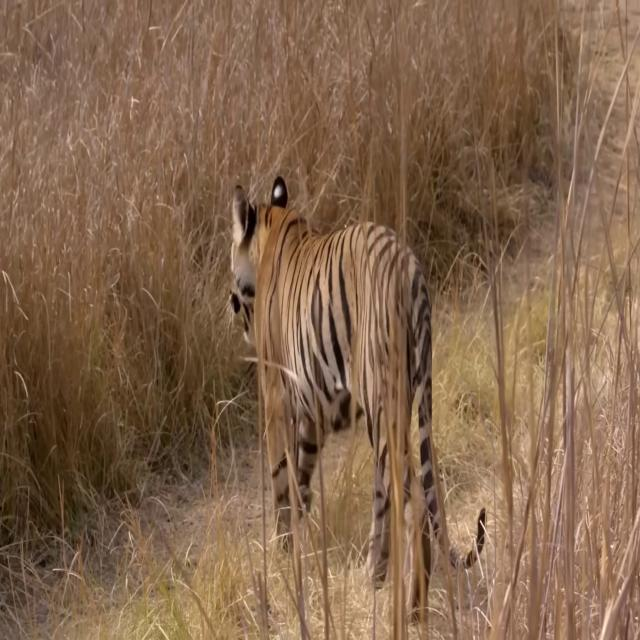tiger: (228, 171, 486, 621)
